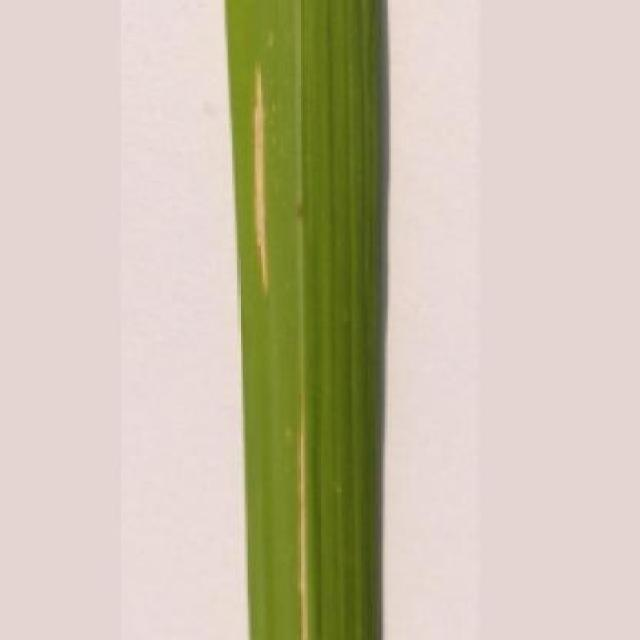Brown_Spot: (220, 0, 394, 640)
